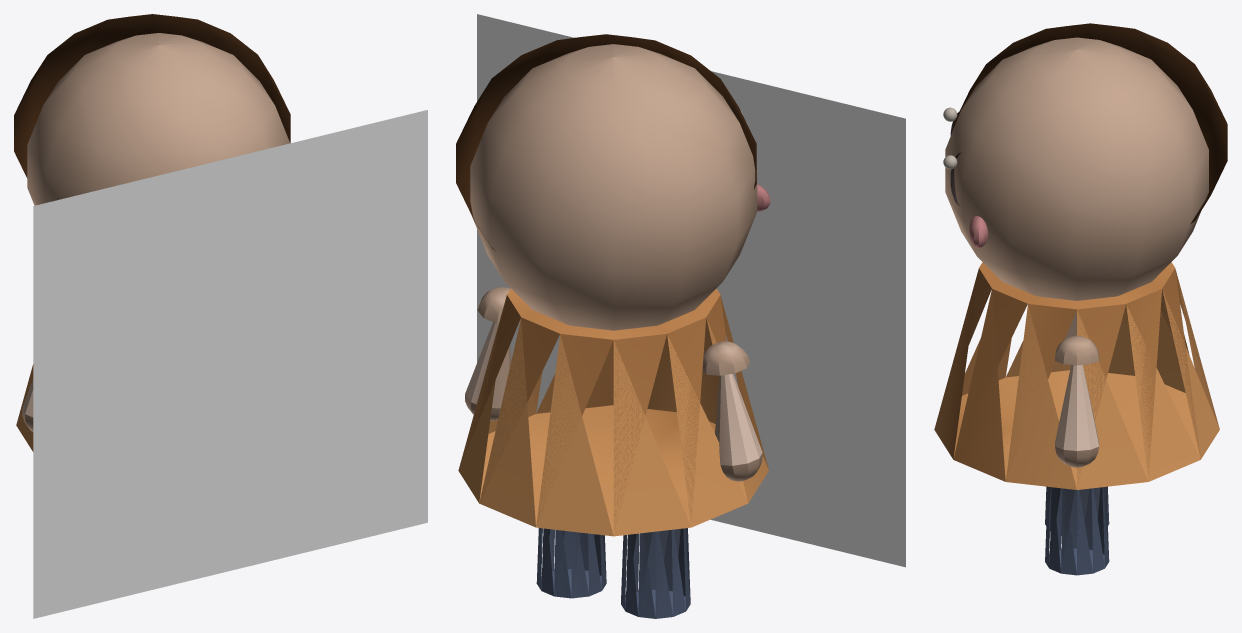
3 renders of one model, left to right at view 1: azimuth 30°, elevation 25°; view 2: azimuth 150°, elevation 25°; view 3: azimuth 270°, elevation 25°, orthographic. The views are drawn at different scales.
Parts seen in each view (by area): view 1: pet_p42759484; view 2: pet_p42759484; view 3: pet_p42759484.
Boxes of the visible parts, left/top/right/bottom form: pet_p42759484: left=14, top=14, right=427, bottom=618; pet_p42759484: left=456, top=14, right=905, bottom=618; pet_p42759484: left=934, top=23, right=1227, bottom=575.
Bounding box in the file's own units: 0.51 × 0.625 × 0.3287.
